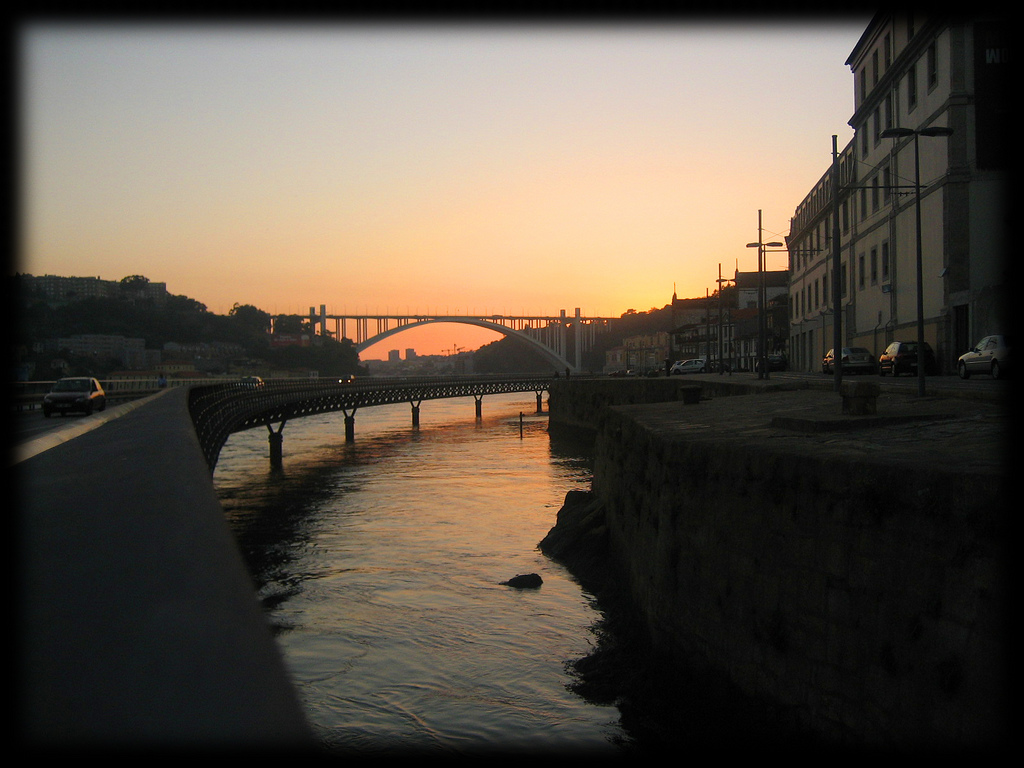arrabida: (264, 303, 623, 379)
